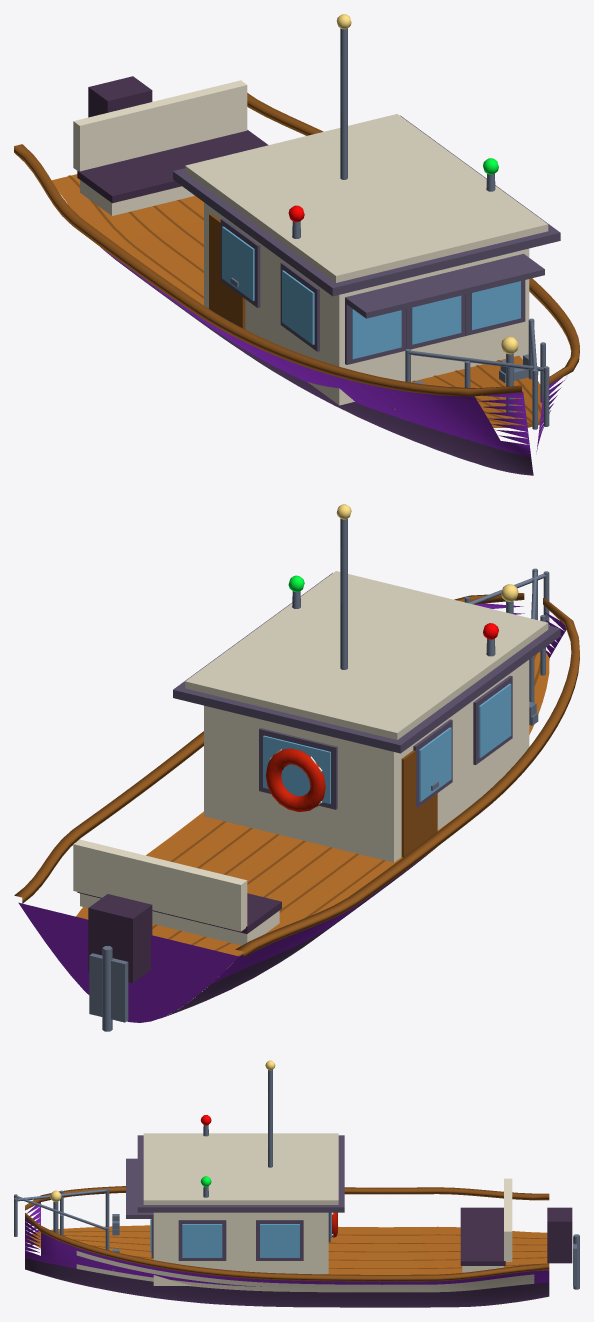
The model's file is bateau-vedette.glb.
The picture shows the model from 3 angles, top to bottom: view 1: azimuth 30°, elevation 25°; view 2: azimuth 150°, elevation 25°; view 3: azimuth 270°, elevation 25°; orthographic projection. The views are drawn at different scales.
Parts seen in each view (by area): view 1: cabine__gris_clair, cabine__violet_fonce, cabine__blanc, pont__blanc, pont__orange, cabine__bleu, coque__orange_fonce, coque__violet, pont__violet_nuit2, coque__violet_nuit, pont__bleu_fonce, cabine__orange_fonce (+3 smaller); view 2: cabine__gris_clair, cabine__blanc, pont__orange, pont__blanc, coque__violet, coque__orange_fonce, cabine__violet_fonce, cabine__bleu, moteur__violet_nuit2, moteur__bleu_fonce, cabine__orange_fonce, cabine__rouge (+5 smaller); view 3: cabine__gris_clair, pont__orange, coque__violet_nuit, cabine__blanc, coque__orange_fonce, cabine__violet_fonce, coque__violet, coque__blanc, cabine__bleu, pont__violet_nuit2, pont__orange_fonce, pont__bleu_fonce (+4 smaller).
Boxes of the visible parts, x1=… form: cabine__gris_clair: x1=185, y1=114, x2=548, y2=282; cabine__violet_fonce: x1=173, y1=115, x2=560, y2=364; cabine__blanc: x1=204, y1=202, x2=529, y2=405; pont__blanc: x1=73, y1=80, x2=247, y2=215; pont__orange: x1=52, y1=174, x2=549, y2=427; cabine__bleu: x1=222, y1=226, x2=520, y2=359; coque__orange_fonce: x1=14, y1=93, x2=579, y2=396; coque__violet: x1=100, y1=247, x2=564, y2=456; pont__violet_nuit2: x1=77, y1=130, x2=268, y2=203; coque__violet_nuit: x1=105, y1=251, x2=533, y2=475; pont__bleu_fonce: x1=392, y1=318, x2=549, y2=429; cabine__orange_fonce: x1=209, y1=214, x2=245, y2=329; cabine__gris_clair: x1=185, y1=571, x2=548, y2=739; cabine__blanc: x1=204, y1=660, x2=529, y2=862; pont__orange: x1=76, y1=652, x2=549, y2=977; pont__blanc: x1=73, y1=839, x2=279, y2=945; coque__violet: x1=18, y1=603, x2=566, y2=1022; coque__orange_fonce: x1=14, y1=593, x2=579, y2=957; cabine__violet_fonce: x1=173, y1=573, x2=560, y2=809; cabine__bleu: x1=263, y1=683, x2=511, y2=803; moteur__violet_nuit2: x1=88, y1=894, x2=152, y2=982; moteur__bleu_fonce: x1=89, y1=946, x2=128, y2=1031; cabine__orange_fonce: x1=401, y1=750, x2=437, y2=857; cabine__rouge: x1=265, y1=748, x2=325, y2=811; cabine__gris_clair: x1=143, y1=1133, x2=338, y2=1204; pont__orange: x1=29, y1=1225, x2=547, y2=1274; coque__violet_nuit: x1=25, y1=1258, x2=549, y2=1307; cabine__blanc: x1=153, y1=1212, x2=333, y2=1285; coque__orange_fonce: x1=25, y1=1186, x2=549, y2=1281; cabine__violet_fonce: x1=126, y1=1135, x2=344, y2=1260; coque__violet: x1=25, y1=1202, x2=549, y2=1286; coque__blanc: x1=76, y1=1251, x2=534, y2=1292; cabine__bleu: x1=150, y1=1212, x2=331, y2=1257; pont__violet_nuit2: x1=460, y1=1207, x2=505, y2=1265; pont__orange_fonce: x1=26, y1=1231, x2=547, y2=1268; pont__bleu_fonce: x1=14, y1=1188, x2=119, y2=1270.
Size of the model in its own units: 2.55 by 3.17 by 6.78.
